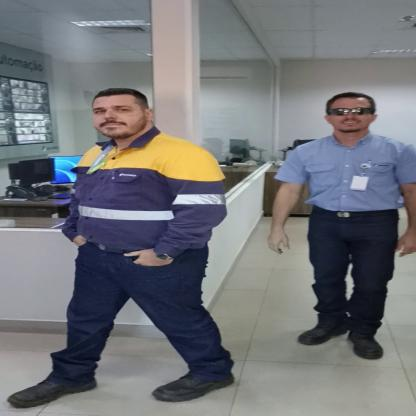Operacional: (64, 141, 233, 251)
